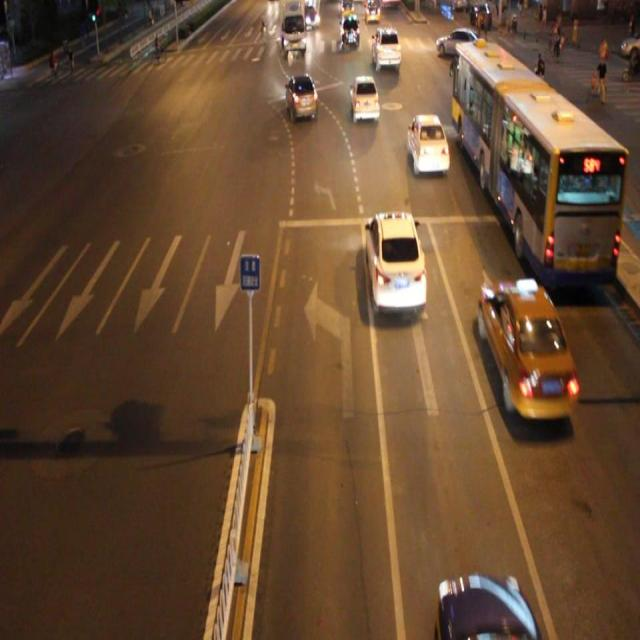car: (480, 279, 577, 420), (366, 211, 428, 309), (406, 112, 450, 177), (286, 73, 318, 124), (350, 74, 380, 124)
van: (453, 40, 620, 292)
